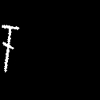double_crochet: (2, 25, 18, 71)
